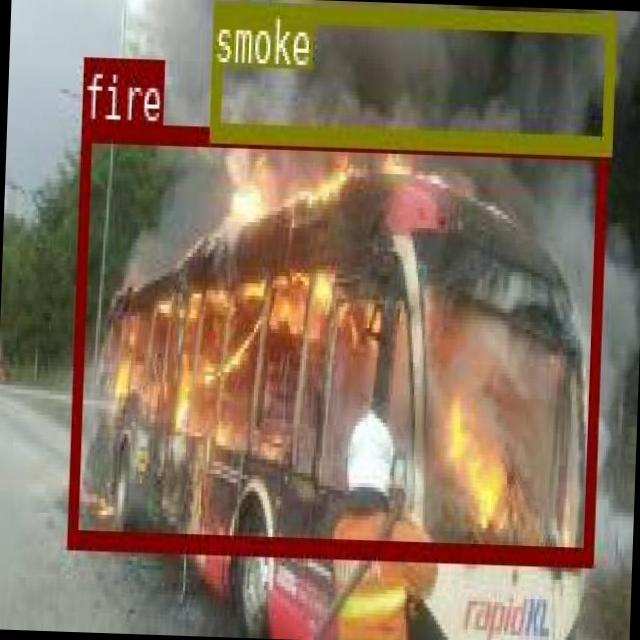fire: (66, 121, 604, 564)
smoke: (207, 0, 614, 152)
